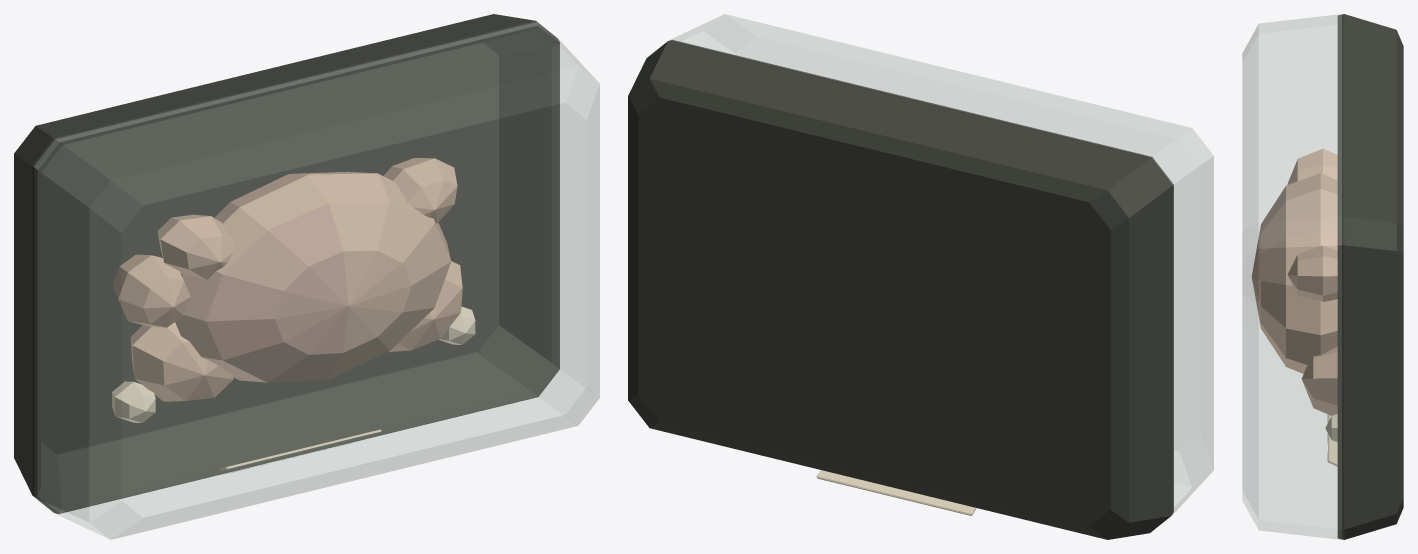
The model's file is turkey.glb.
3 views of the same model, side by side, from view 1: azimuth 30°, elevation 25°; view 2: azimuth 150°, elevation 25°; view 3: azimuth 270°, elevation 25° (orthographic). The views are drawn at different scales.
Parts seen in each view (by area): view 1: turkey; view 2: turkey; view 3: turkey.
Boxes of the visible parts, x1,y1,x2,y2 form: turkey: (14, 14, 599, 539); turkey: (628, 14, 1213, 539); turkey: (1242, 14, 1403, 539).
Bounding box in the file's own units: 0.22 × 0.155 × 0.068.
